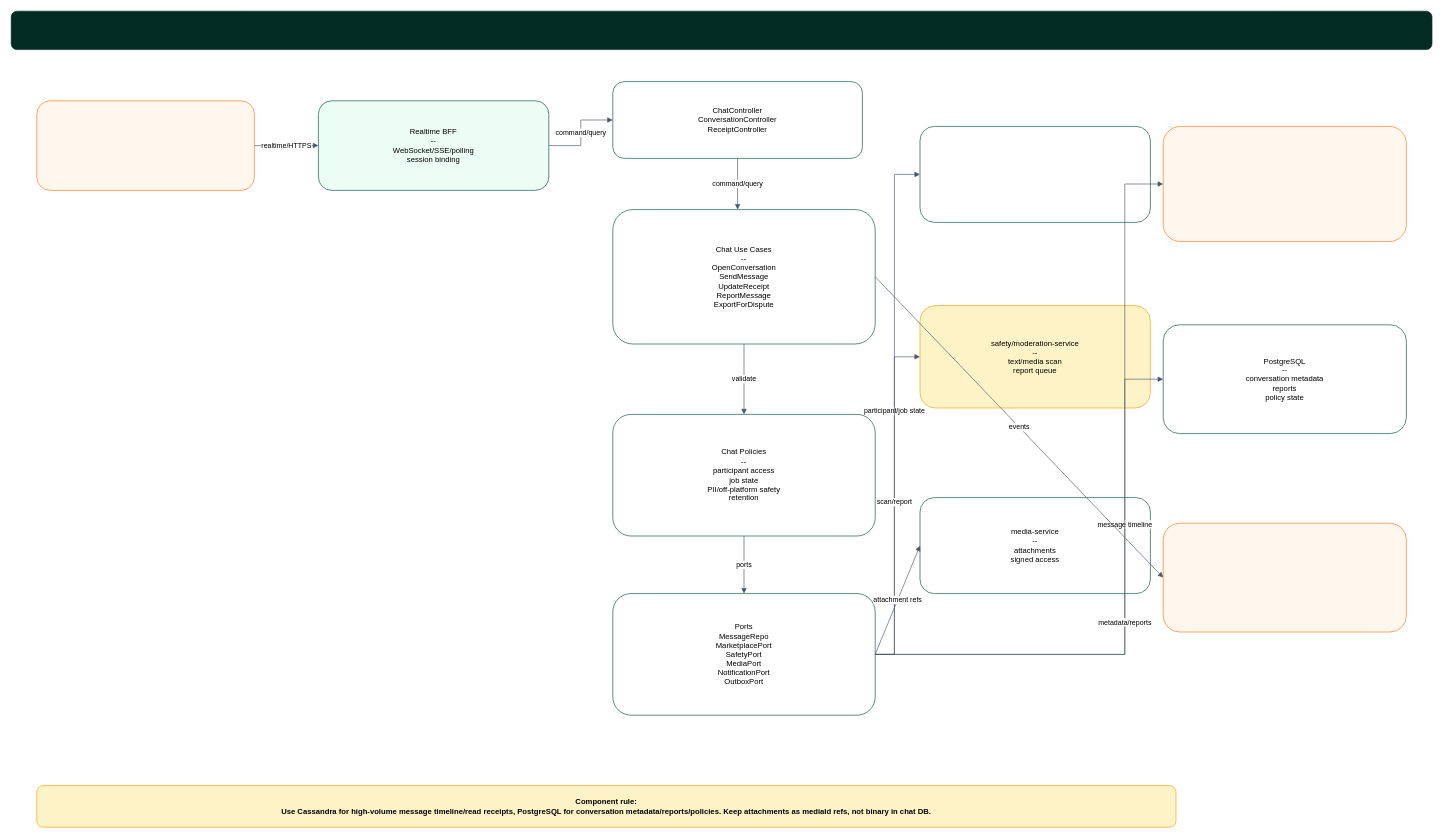
This 1443x838 diagram has some shape labels left out. Here are the shapes that lost their labels. From the top down, the centre of each, then its label:
the point at 721,30: Viaverse Chat / Messaging / Safety — Component Diagram
the point at 145,145: KMP Client -- chat UI attachments receipts
the point at 1034,174: marketplace-service -- job/order context participants
the point at 1284,184: Cassandra -- messages receipts conversation timeline
the point at 1284,577: Kafka / Outbox -- MessageSent MessageReported ConversationArchived
